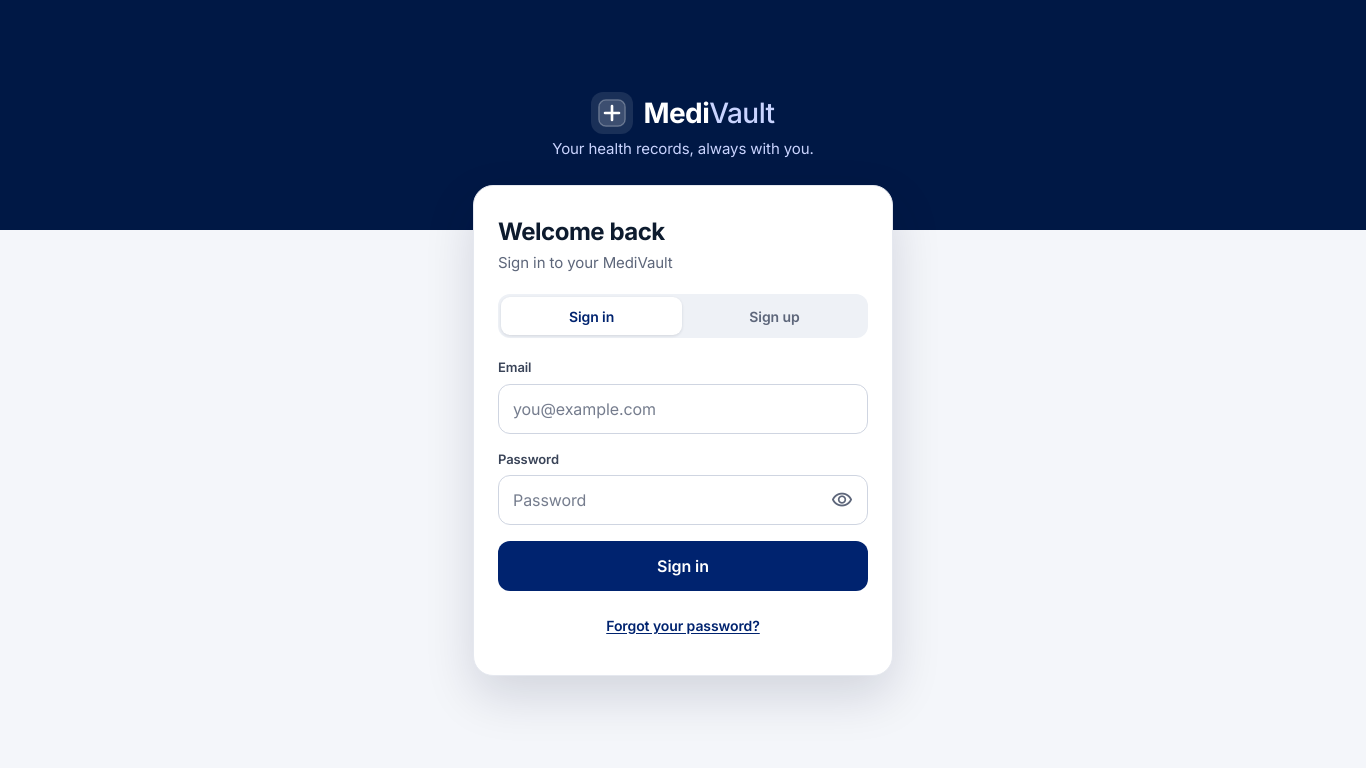
Test: wrong credentials are explained without revealing which part was wrong
Type "me@example.com" into the field labelled "Email".
click(683, 408); type("me@example.com")  # box left=498, top=384, right=868, bottom=434
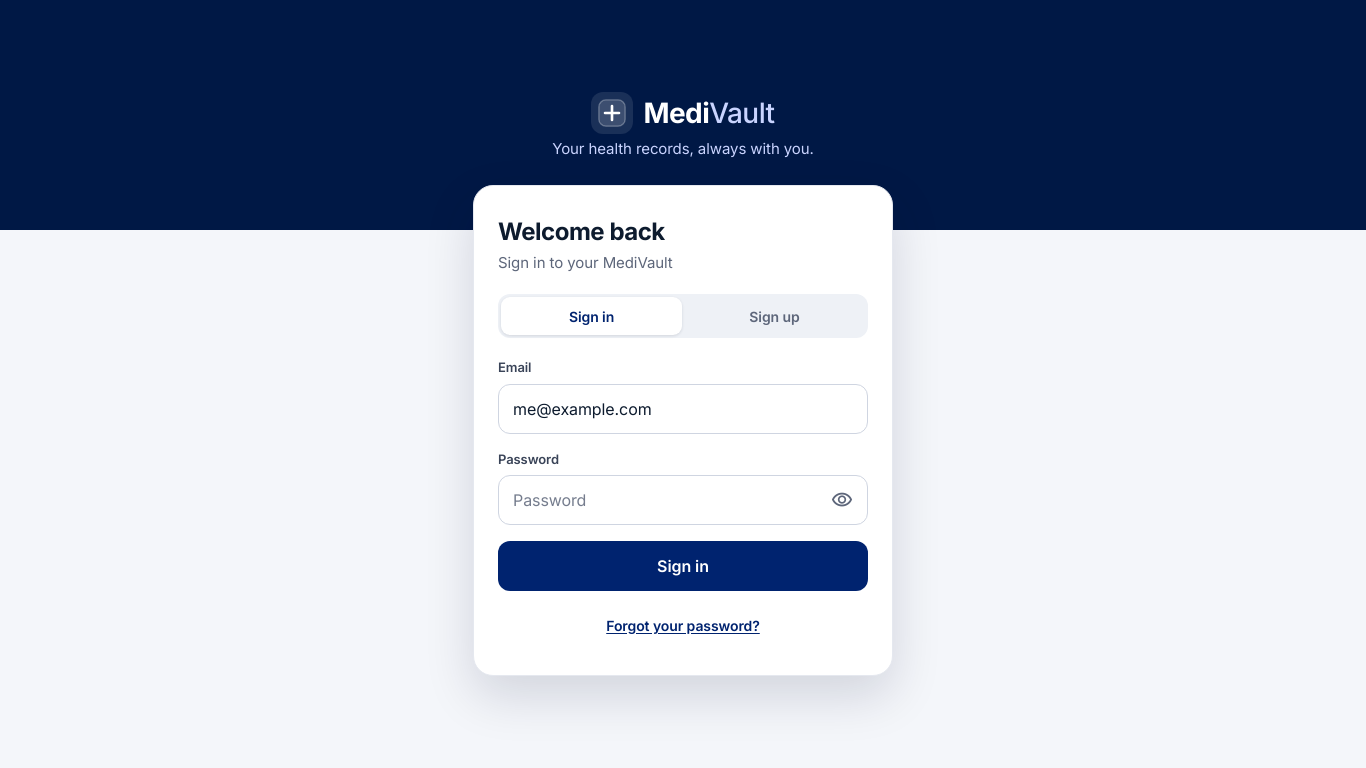
Type "wrong-password" into the password field labelled "Password".
click(683, 500); type("wrong-password")  # box left=498, top=475, right=868, bottom=525
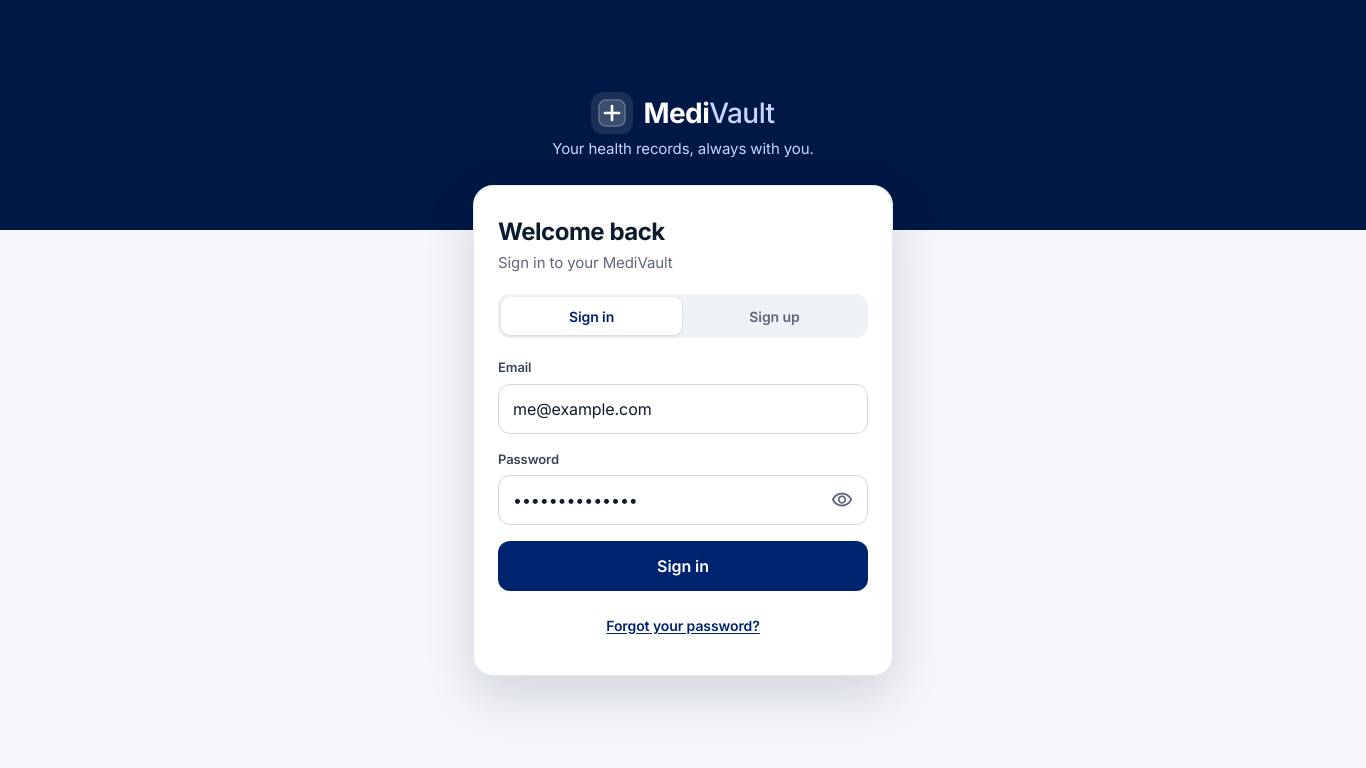
Click the button "Sign in".
click(683, 566)  # box left=498, top=541, right=868, bottom=591
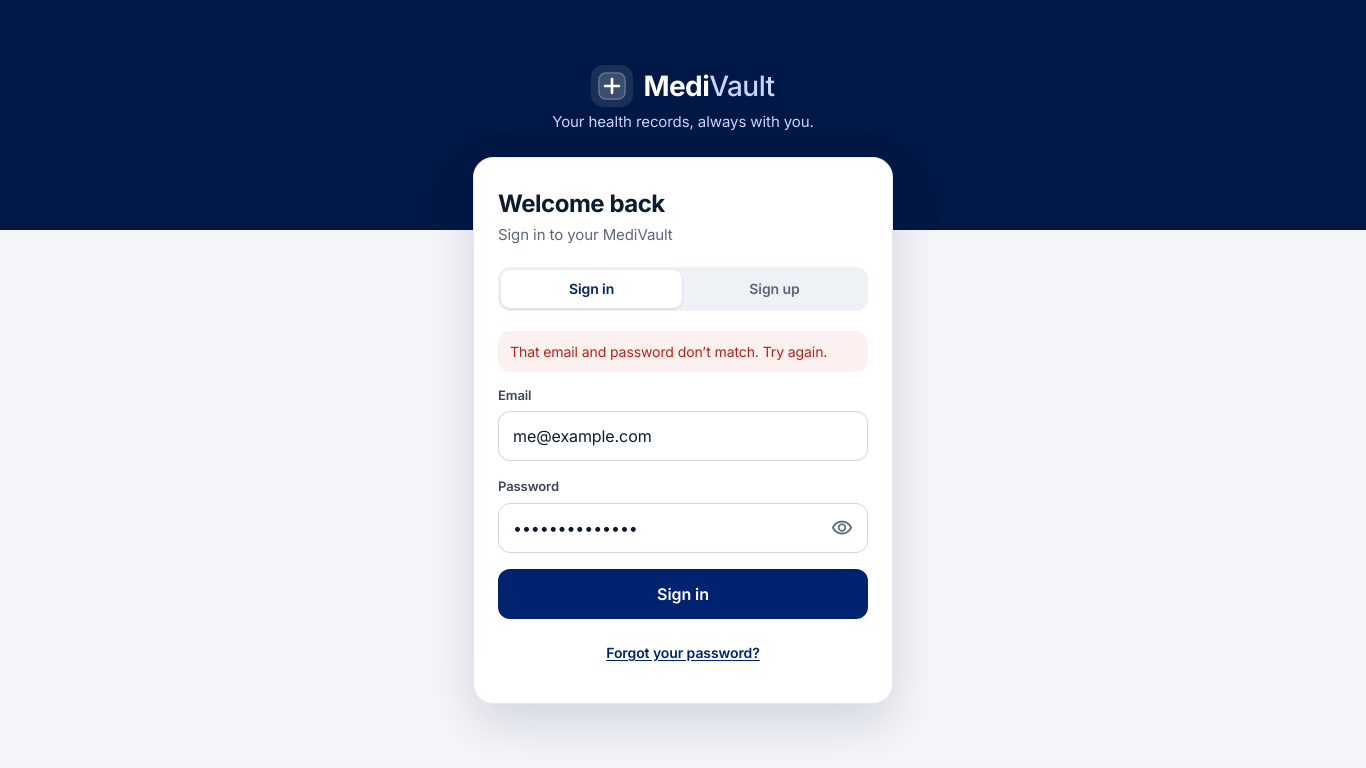
Expected: the message shows "don’t match", left=510, top=342, right=827, bottom=360
